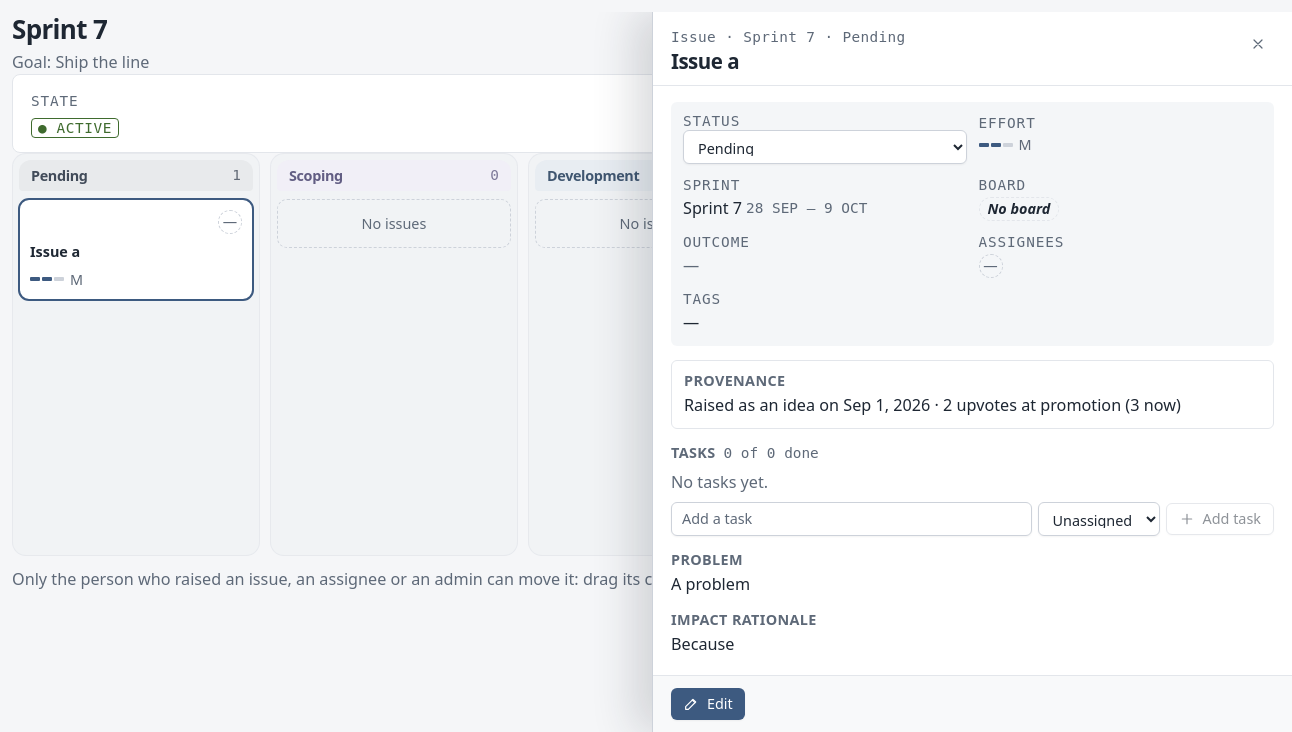
Scenario: The Issue drawer’s status › moves the card through the select and shows a refusal beside it
Select "Review" in the dropdown labelled "Status" at (825, 147), box [683,130,966,164]
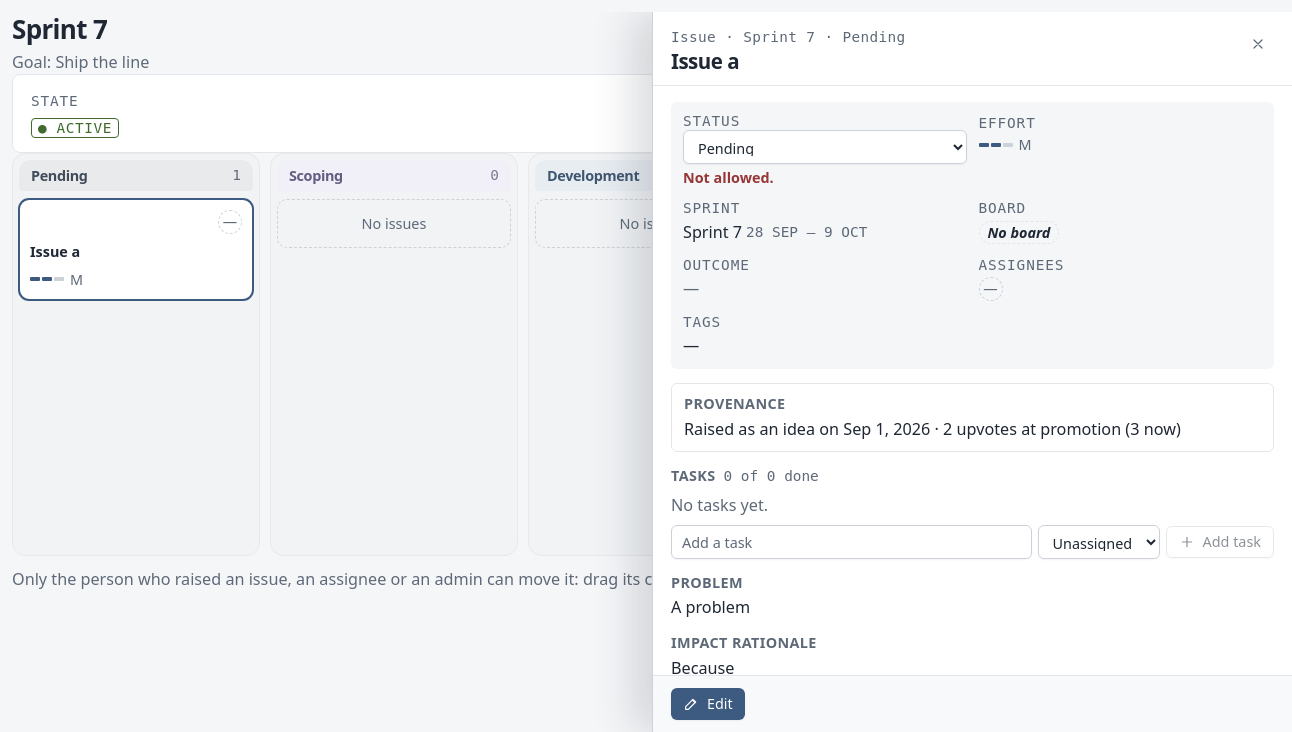
expect the message reads "Not allowed.": met, box [683,168,774,187]
